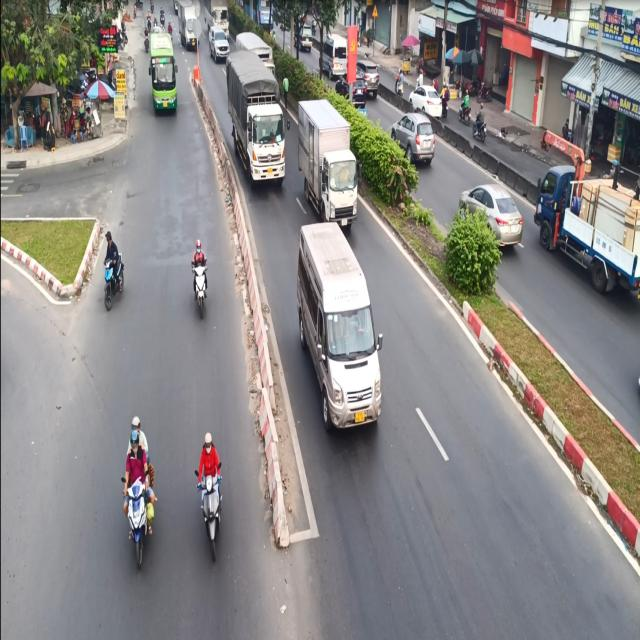bus: (149, 29, 180, 123)
car: (295, 221, 392, 441)
motor: (114, 408, 155, 564), (194, 421, 228, 563), (100, 226, 125, 307), (185, 232, 208, 316)
truck: (294, 94, 366, 230), (223, 50, 284, 198)
